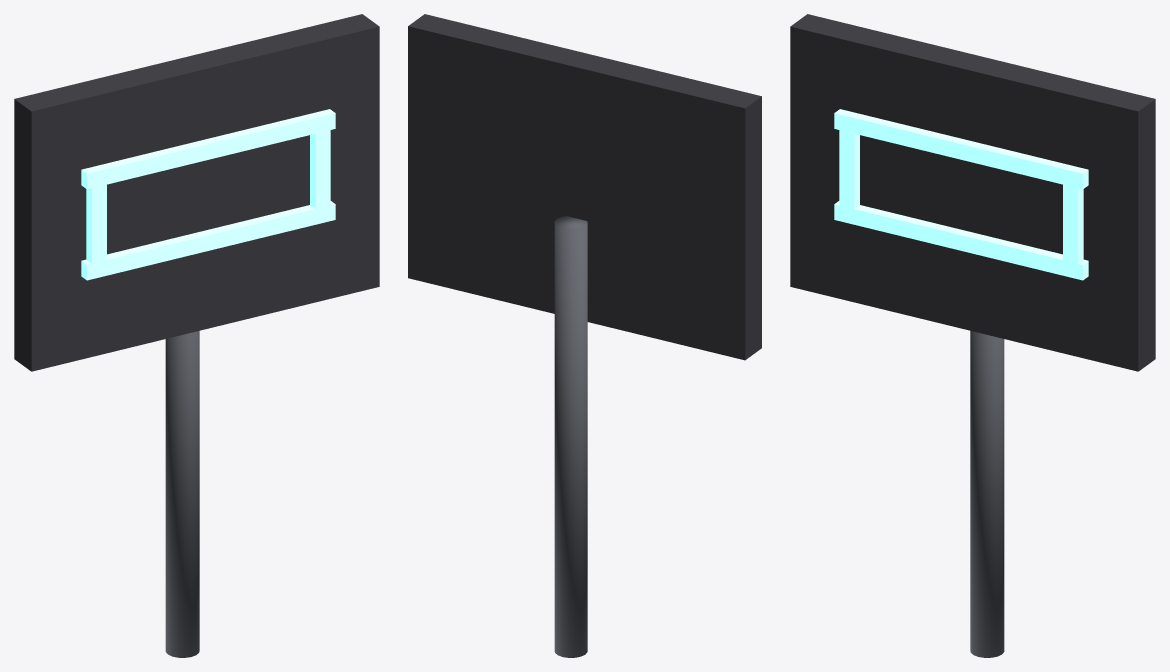
File: prop_kanban_neon_c.glb
The picture shows the model from 3 angles, left to right: view 1: azimuth 30°, elevation 25°; view 2: azimuth 150°, elevation 25°; view 3: azimuth 330°, elevation 25°; orthographic projection. The views are drawn at different scales.
Parts seen in each view (by area): view 1: kanban_neon_c; view 2: kanban_neon_c; view 3: kanban_neon_c.
Boxes of the visible parts, box(x1,y1,x2,y2) form: kanban_neon_c: box(14, 14, 379, 657); kanban_neon_c: box(408, 14, 761, 657); kanban_neon_c: box(790, 14, 1155, 657).
Bounding box in the file's own units: 1.4 × 2.3 × 0.26.
